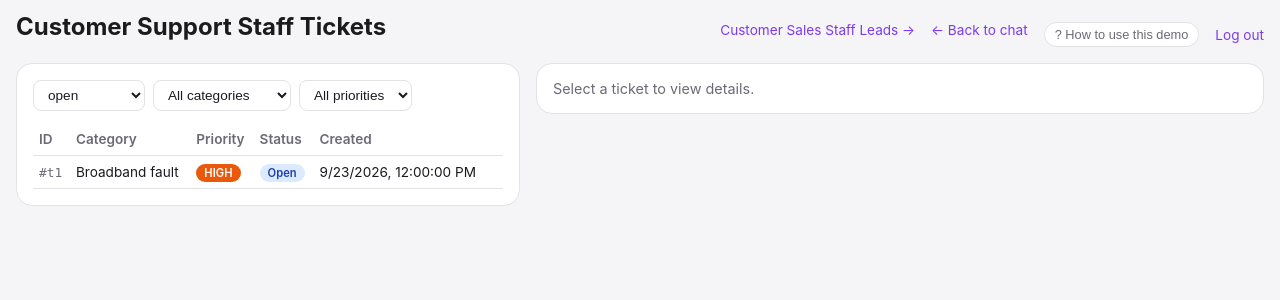
StaffDashboard › loads and renders the transcript when a row is clicked
Click the text "Broadband fault". click: (268, 172)
box: left=33, top=156, right=503, bottom=188
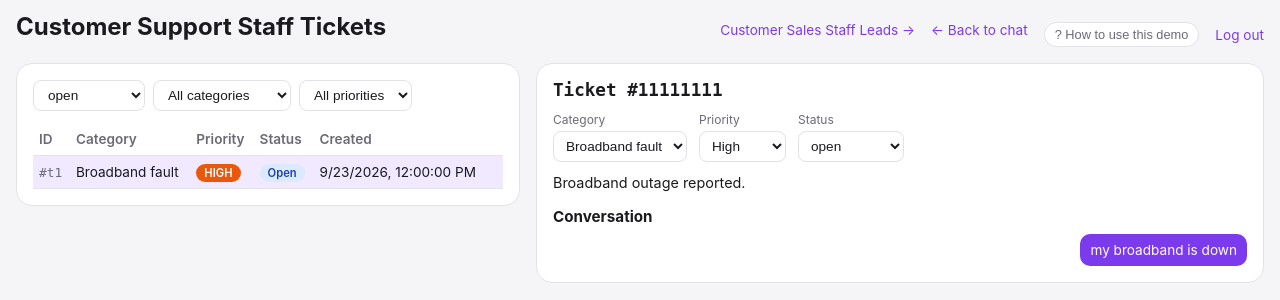
Now the text "my broadband is down" is shown, box left=1080, top=234, right=1247, bottom=266
